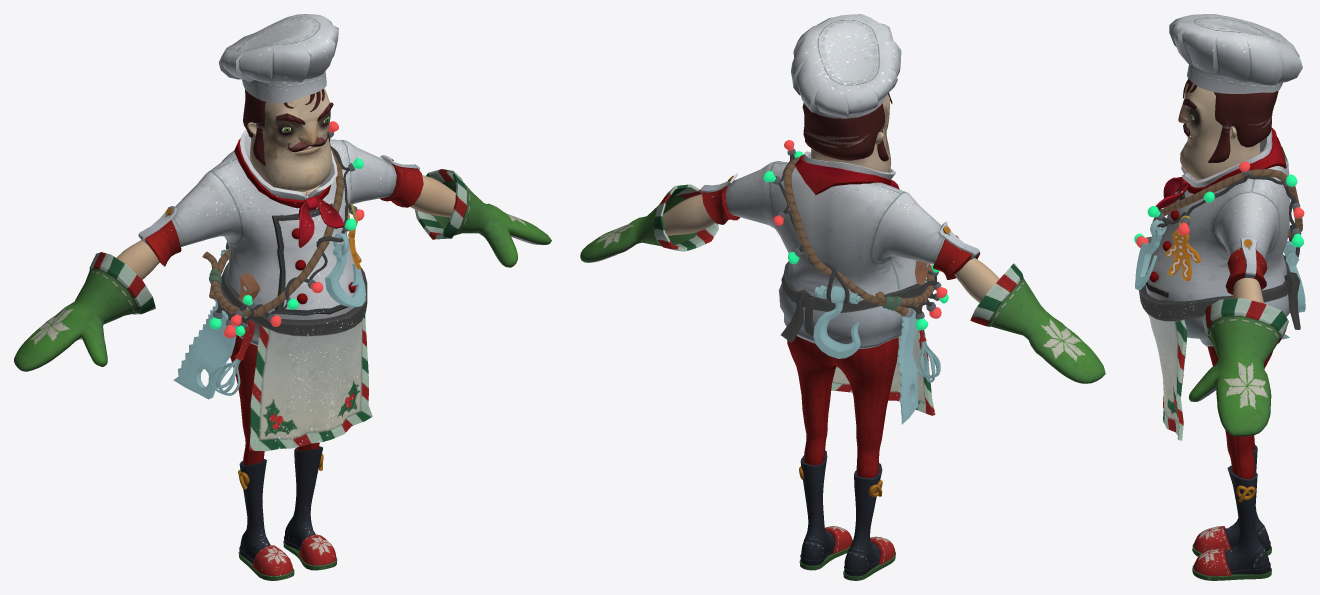
3 renders of one model, left to right at view 1: azimuth 30°, elevation 25°; view 2: azimuth 150°, elevation 25°; view 3: azimuth 270°, elevation 25°, orthographic. The views are drawn at different scales.
Visible parts, largest first — view 1: TORSO_Baker_Body_Butcher_TORSO_Baker_Material_0, ACCESSORY_Baker_Apron_Butcher_ACCESSORY_Baker_Material_0, HEAD_Baker_Face_NoFPS_Butcher_HEAD_Baker_Material_0, LEGS_Baker_Pants_Butcher_LEGS_Baker_Material_0; view 2: TORSO_Baker_Body_Butcher_TORSO_Baker_Material_0, LEGS_Baker_Pants_Butcher_LEGS_Baker_Material_0, HEAD_Baker_Face_NoFPS_Butcher_HEAD_Baker_Material_0, ACCESSORY_Baker_Apron_Butcher_ACCESSORY_Baker_Material_0; view 3: TORSO_Baker_Body_Butcher_TORSO_Baker_Material_0, HEAD_Baker_Face_NoFPS_Butcher_HEAD_Baker_Material_0, ACCESSORY_Baker_Apron_Butcher_ACCESSORY_Baker_Material_0, LEGS_Baker_Pants_Butcher_LEGS_Baker_Material_0.
Part boxes in pixels (x1,y1,x2,y2): TORSO_Baker_Body_Butcher_TORSO_Baker_Material_0: (14,129,551,371); ACCESSORY_Baker_Apron_Butcher_ACCESSORY_Baker_Material_0: (173,121,372,451); HEAD_Baker_Face_NoFPS_Butcher_HEAD_Baker_Material_0: (218,14,338,192); LEGS_Baker_Pants_Butcher_LEGS_Baker_Material_0: (230,335,337,580); TORSO_Baker_Body_Butcher_TORSO_Baker_Material_0: (580,151,1105,383); LEGS_Baker_Pants_Butcher_LEGS_Baker_Material_0: (787,336,898,580); HEAD_Baker_Face_NoFPS_Butcher_HEAD_Baker_Material_0: (791,14,901,172); ACCESSORY_Baker_Apron_Butcher_ACCESSORY_Baker_Material_0: (763,140,948,424); TORSO_Baker_Body_Butcher_TORSO_Baker_Material_0: (1145,128,1290,436); HEAD_Baker_Face_NoFPS_Butcher_HEAD_Baker_Material_0: (1169,14,1302,180); ACCESSORY_Baker_Apron_Butcher_ACCESSORY_Baker_Material_0: (1134,161,1305,440); LEGS_Baker_Pants_Butcher_LEGS_Baker_Material_0: (1192,346,1272,580).
Size of the model in its own units: 3.2 by 3.1 by 0.8844.
Materials: 4 (4 with a texture image).
